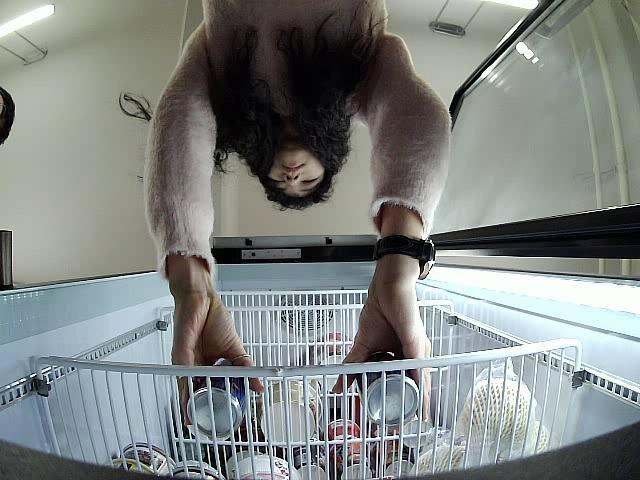16_hot6: (183, 356, 246, 440), (358, 354, 422, 428)
